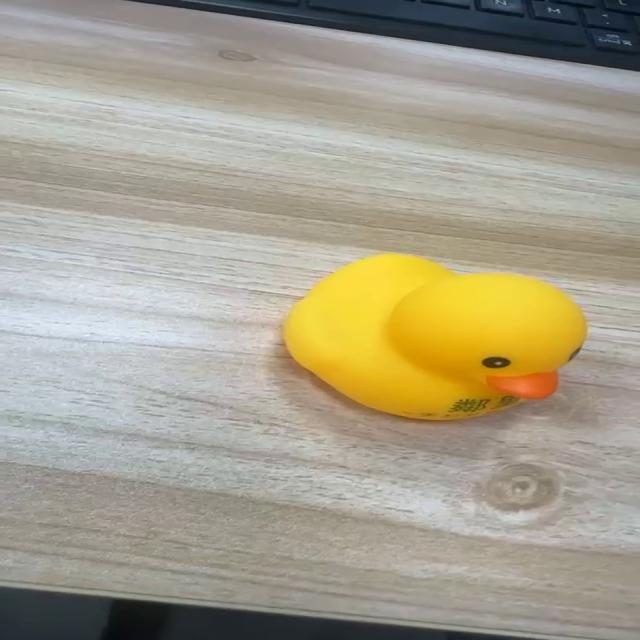yellow_duck: (280, 251, 588, 421)
